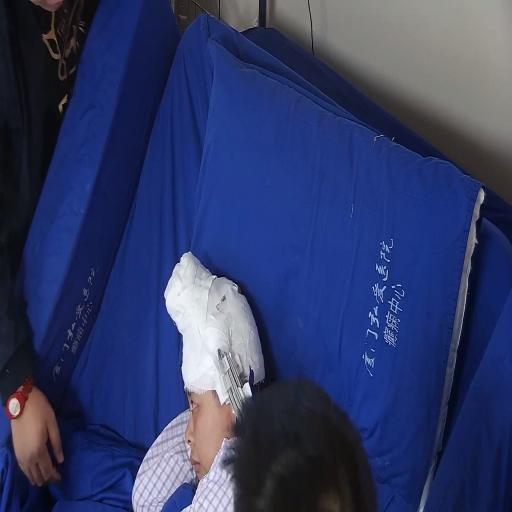Seizure: (176, 341, 246, 470)
